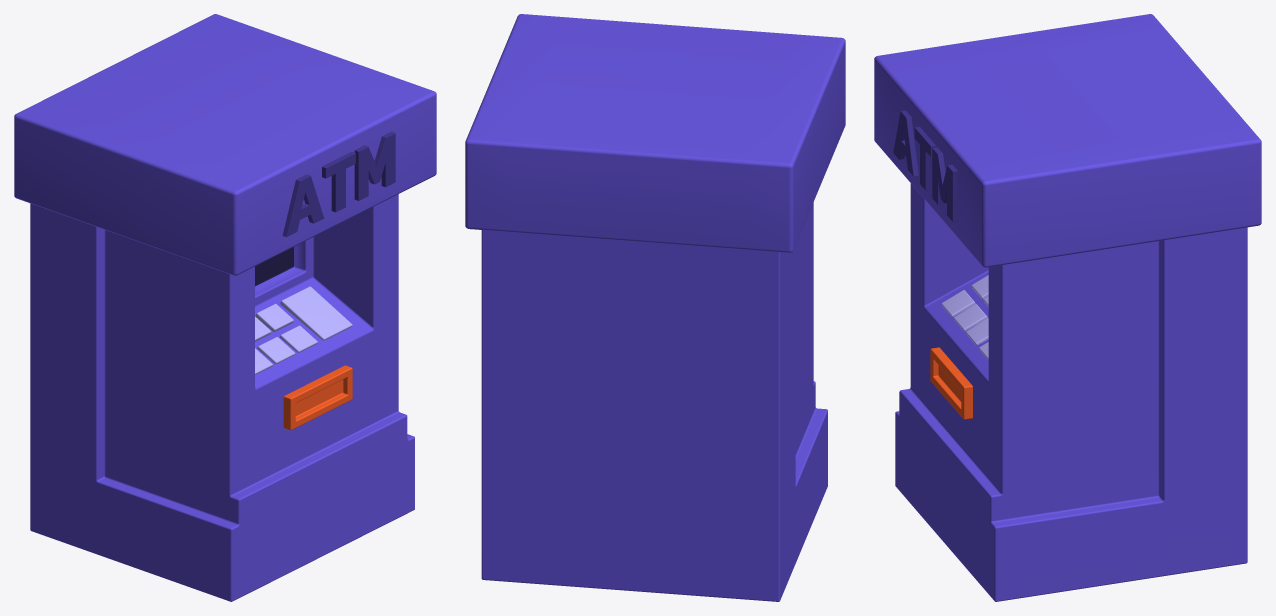
Rendered from ATM Machine.glb.
The picture shows the model from 3 angles, left to right: view 1: azimuth 30°, elevation 25°; view 2: azimuth 150°, elevation 25°; view 3: azimuth 270°, elevation 25°; orthographic projection. The views are drawn at different scales.
Visible parts, largest first — view 1: Cube.026, Cube.028, Text.003, Cube.031, Cube.030, Cube.029; view 2: Cube.026, Cube.028; view 3: Cube.026, Cube.028, Text.003, Cube.031, Cube.030.
Boxes of the visible parts, bbox=[...] form: Cube.026: bbox=[30, 194, 414, 601]; Cube.028: bbox=[14, 14, 436, 275]; Text.003: bbox=[282, 131, 395, 236]; Cube.031: bbox=[283, 365, 352, 430]; Cube.030: bbox=[255, 303, 317, 374]; Cube.029: bbox=[280, 286, 352, 340]; Cube.026: bbox=[481, 202, 827, 601]; Cube.028: bbox=[465, 14, 845, 252]; Cube.026: bbox=[895, 183, 1247, 601]; Cube.028: bbox=[874, 14, 1261, 267]; Text.003: bbox=[893, 110, 957, 221]; Cube.031: bbox=[930, 347, 972, 419]; Cube.030: bbox=[941, 275, 988, 345].
Size of the model in its own units: 3.14 by 3.69 by 3.03.
